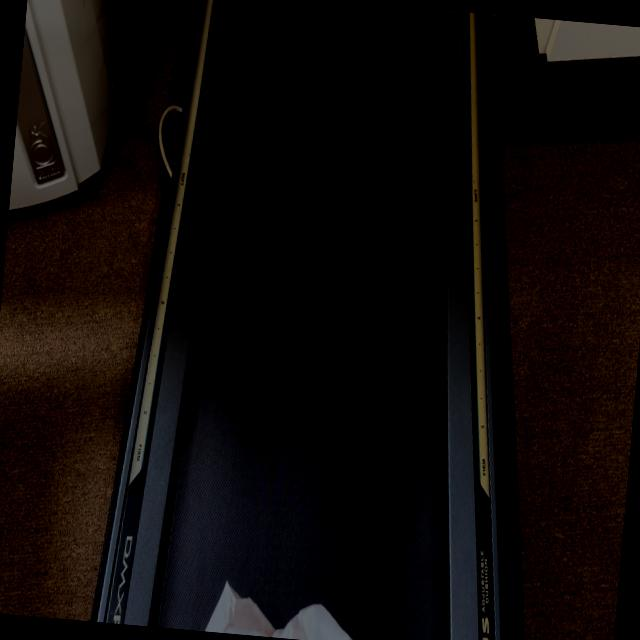Trash: (194, 578, 364, 640)
